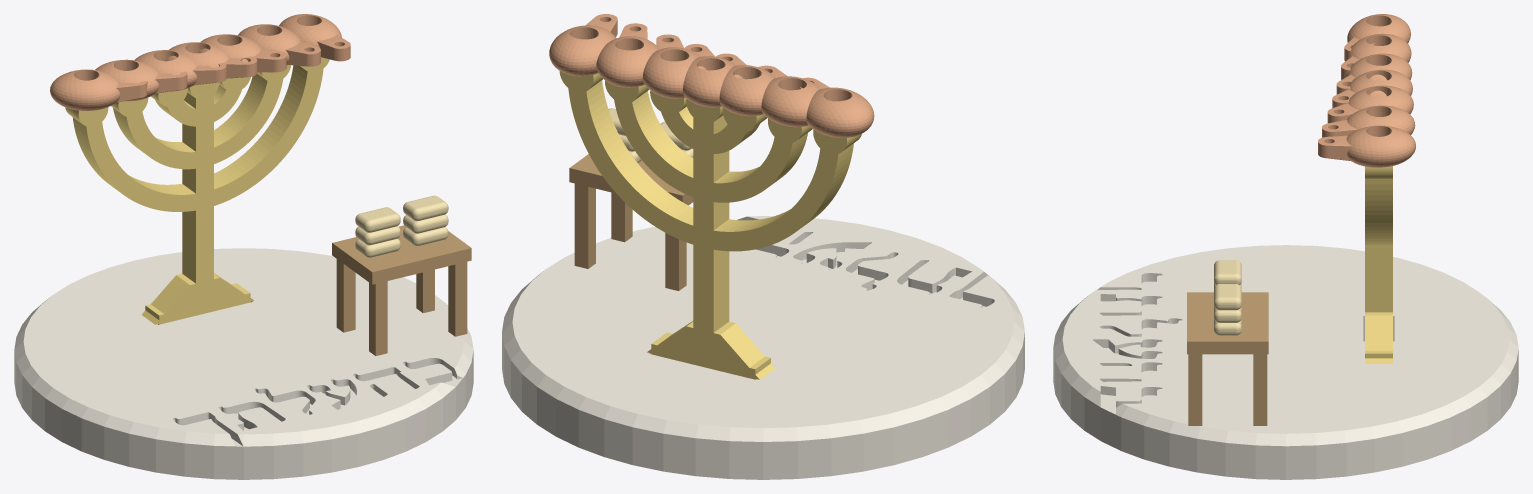
File: behaalotecha.glb
The picture shows the model from 3 angles, left to right: view 1: azimuth 30°, elevation 25°; view 2: azimuth 150°, elevation 25°; view 3: azimuth 270°, elevation 25°; orthographic projection. The views are drawn at different scales.
Visible parts, largest first — view 1: stage, menorah, table, bread, lamp--1, lamp--7, lamp--6, lamp--2, lamp--3, lamp--5, lamp--4; view 2: stage, menorah, table, lamp--1, lamp--7, lamp--6, lamp--2, lamp--5, lamp--3, lamp--4, bread; view 3: stage, table, menorah, lamp--7, bread, lamp--6, lamp--5, lamp--2, lamp--1, lamp--3, lamp--4.
Part boxes in pixels (x1,y1,x2,y2): stage: [14, 248, 473, 479]; menorah: [65, 57, 329, 324]; table: [332, 225, 471, 355]; bread: [355, 195, 448, 257]; lamp--1: [50, 69, 147, 110]; lamp--7: [279, 14, 350, 61]; lamp--6: [238, 24, 320, 66]; lamp--2: [95, 59, 187, 101]; lamp--3: [134, 50, 226, 91]; lamp--5: [198, 34, 286, 72]; lamp--4: [165, 42, 257, 78]; stage: [502, 216, 1024, 479]; menorah: [559, 71, 861, 379]; table: [569, 154, 693, 290]; lamp--1: [799, 77, 874, 137]; lamp--7: [549, 14, 617, 76]; lamp--6: [596, 23, 658, 87]; lamp--2: [758, 65, 820, 127]; lamp--5: [642, 34, 706, 98]; lamp--3: [716, 53, 775, 116]; lamp--4: [683, 44, 743, 107]; bread: [608, 108, 693, 162]; stage: [1053, 245, 1518, 479]; table: [1187, 292, 1268, 425]; menorah: [1365, 166, 1392, 363]; lamp--7: [1318, 125, 1415, 167]; bread: [1214, 260, 1241, 335]; lamp--6: [1322, 105, 1415, 137]; lamp--5: [1327, 85, 1413, 123]; lamp--2: [1341, 33, 1411, 79]; lamp--1: [1344, 14, 1410, 61]; lamp--3: [1336, 53, 1412, 94]; lamp--4: [1332, 69, 1412, 107].
Size of the model in its own units: 40 by 29 by 40.
